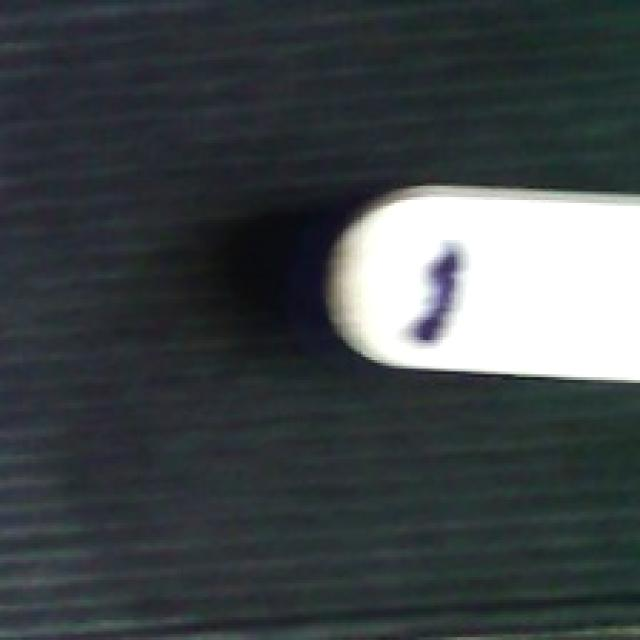defected: (317, 180, 637, 386)
